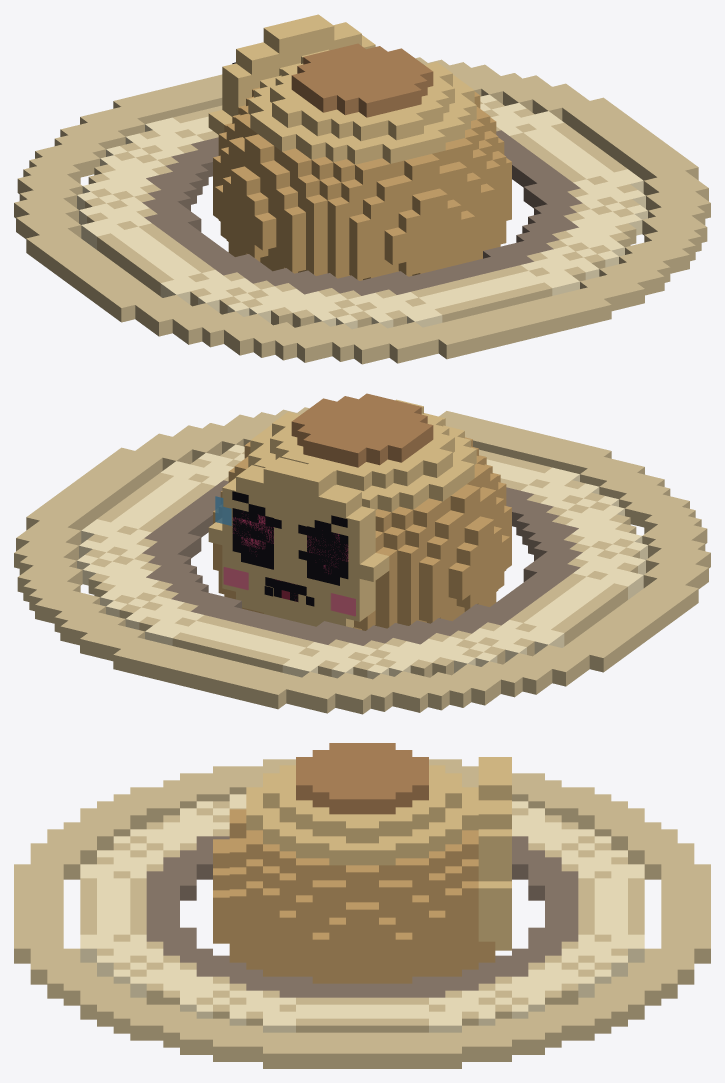
The model's file is saturno_cliente.obj.
3 views of the same model, one above another, from view 1: azimuth 30°, elevation 25°; view 2: azimuth 150°, elevation 25°; view 3: azimuth 270°, elevation 25° (orthographic). The views are drawn at different scales.
Visible parts, largest first — view 1: anillo_a, planeta, anillo_b, anillo_b_surco, anillo_c, planeta_banda_clara, planeta_banda_oscura, rostro; view 2: anillo_a, anillo_b, planeta, anillo_b_surco, rostro, anillo_c, planeta_banda_clara, planeta_banda_oscura, cara_feliz_ojos, cara_espiral_ojos, cara_enojado_cejas, cara_guino_rubor (+2 smaller); view 3: anillo_a, planeta, anillo_b, anillo_b_surco, anillo_c, planeta_banda_clara, planeta_banda_oscura, rostro.
Boxes of the visible parts, <box> form: anillo_a: <box>14,57,710,364</box>; planeta: <box>213,87,511,280</box>; anillo_b: <box>77,94,647,329</box>; anillo_b_surco: <box>85,100,639,327</box>; anillo_c: <box>142,130,582,295</box>; planeta_banda_clara: <box>248,49,476,164</box>; planeta_banda_oscura: <box>291,43,433,117</box>; rostro: <box>208,14,375,134</box>; anillo_a: <box>14,407,710,714</box>; anillo_b: <box>77,444,647,679</box>; planeta: <box>213,437,511,630</box>; anillo_b_surco: <box>85,449,639,677</box>; rostro: <box>208,457,389,627</box>; anillo_c: <box>142,480,582,645</box>; planeta_banda_clara: <box>248,399,476,512</box>; planeta_banda_oscura: <box>291,393,433,467</box>; cara_feliz_ojos: <box>241,510,339,585</box>; cara_espiral_ojos: <box>232,508,348,579</box>; cara_enojado_cejas: <box>232,491,347,536</box>; cara_guino_rubor: <box>223,567,355,616</box>; anillo_a: <box>14,759,710,1068</box>; planeta: <box>213,809,495,983</box>; anillo_b: <box>80,794,644,1032</box>; anillo_b_surco: <box>80,801,644,1032</box>; anillo_c: <box>146,836,578,997</box>; planeta_banda_clara: <box>246,765,478,865</box>; planeta_banda_oscura: <box>296,743,428,814</box>; rostro: <box>478,757,511,950</box>.
Bounding box in the file's own units: 1.26 × 0.48 × 1.26.
